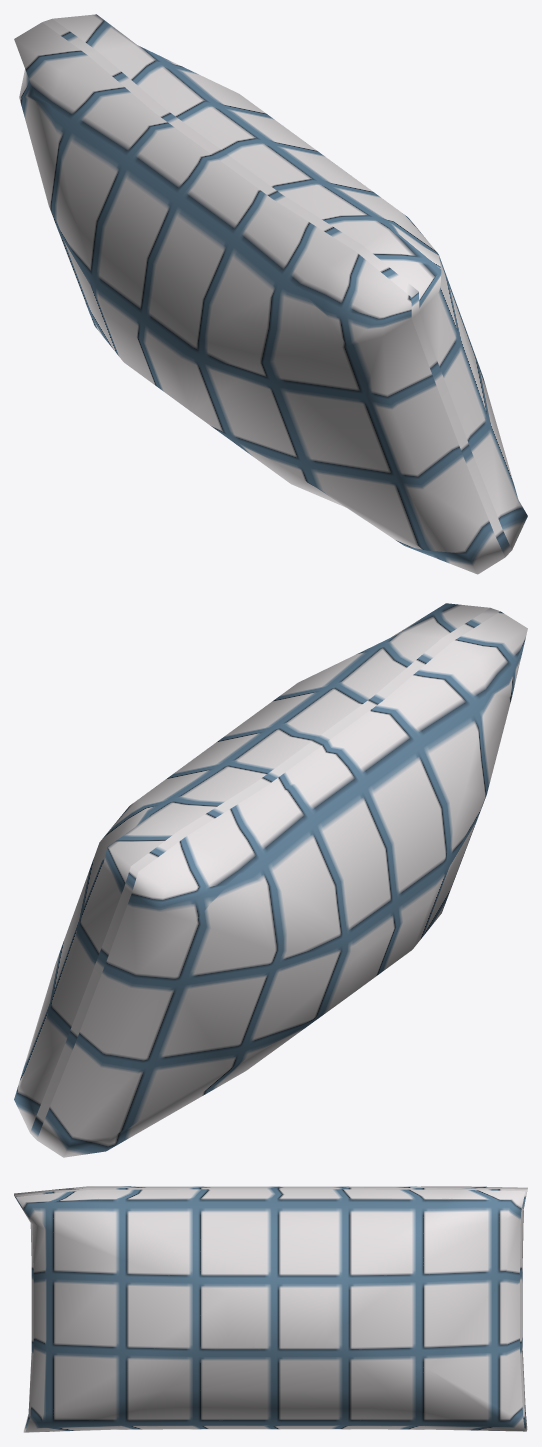
The model's file is Bedpillowmedium.FBX.
3 renders of one model, top to bottom at view 1: azimuth 30°, elevation 25°; view 2: azimuth 150°, elevation 25°; view 3: azimuth 270°, elevation 25°, orthographic. The views are drawn at different scales.
Visible parts, largest first — view 1: Box003; view 2: Box003; view 3: Box003.
Part boxes in pixels (left/top/right/bottom): Box003: left=14, top=14, right=527, bottom=574; Box003: left=14, top=603, right=527, bottom=1157; Box003: left=14, top=1186, right=527, bottom=1432.
Bounding box in the file's own units: 34.46 × 41.1 × 87.13.
Materials: 1 (1 with a texture image).
